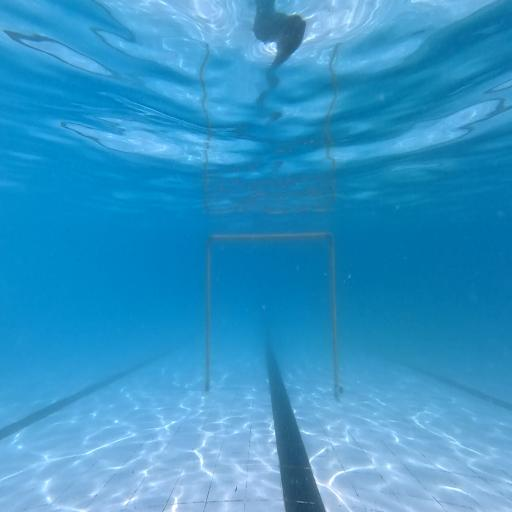gate: (205, 232, 343, 395)
